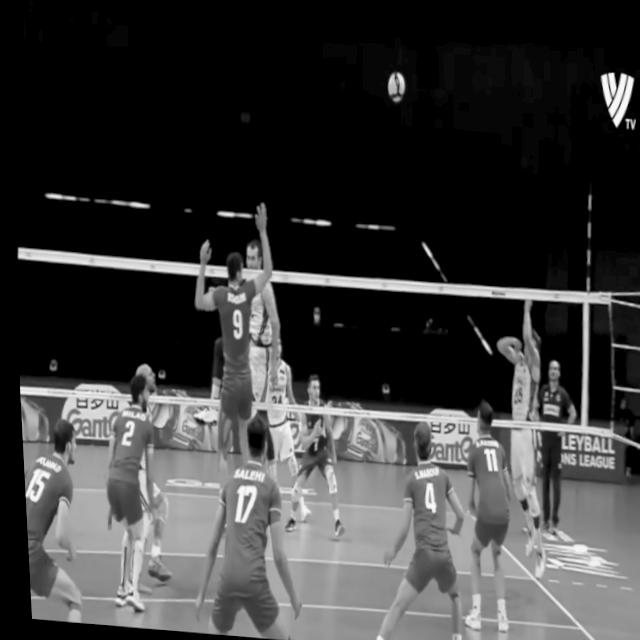player: (175, 191, 280, 493), (177, 416, 308, 640), (361, 414, 468, 640), (477, 288, 560, 579), (81, 371, 163, 612), (448, 403, 516, 633), (17, 414, 91, 622), (115, 358, 183, 581), (275, 369, 352, 542), (225, 236, 288, 443), (250, 327, 316, 521)
